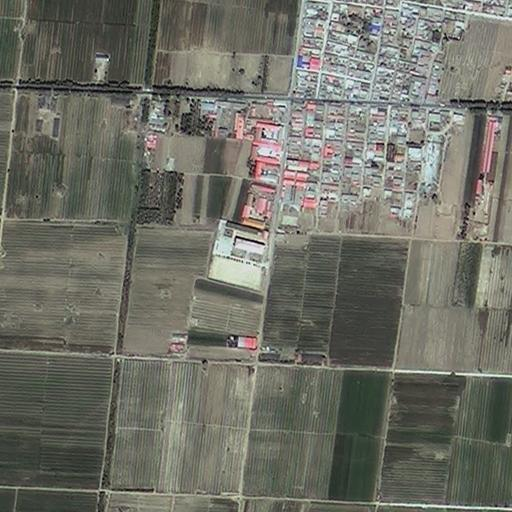school: (201, 221, 268, 296)
